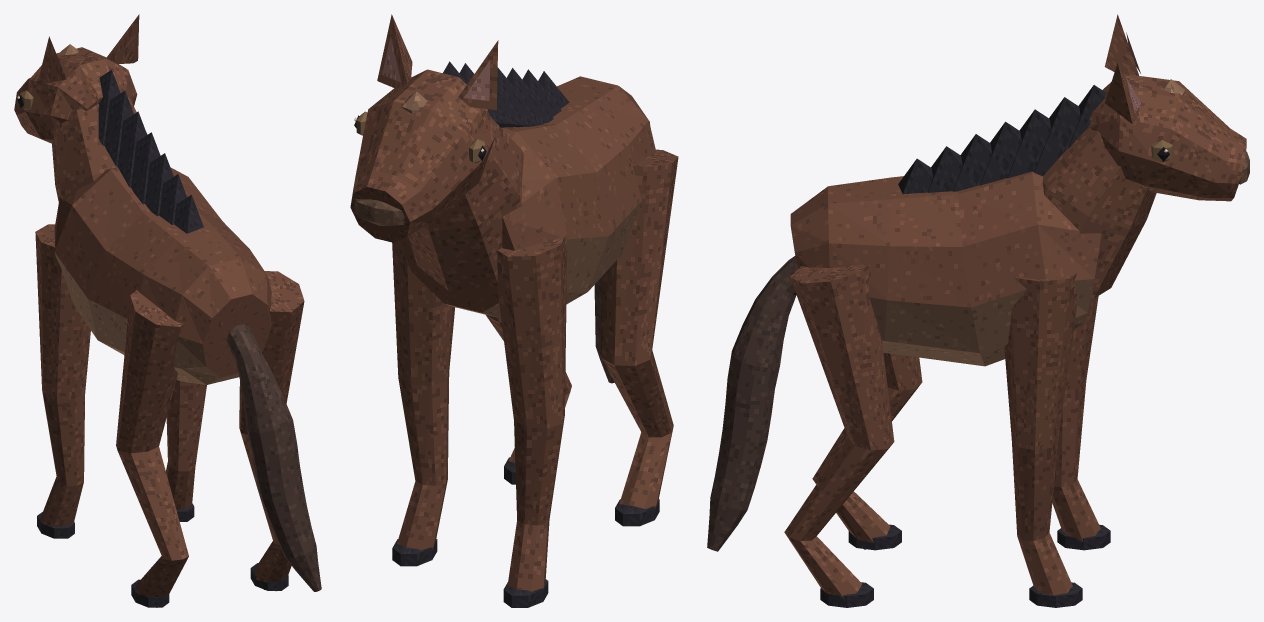
File: mon_horse_foal.glb
3 views of the same model, side by side, from view 1: azimuth 30°, elevation 25°; view 2: azimuth 150°, elevation 25°; view 3: azimuth 270°, elevation 25° (orthographic). The views are drawn at different scales.
Visible parts, largest first — view 1: closed_body; view 2: closed_body; view 3: closed_body.
Part boxes in pixels (box(x1,y1,x2,y2)): closed_body: box(14, 14, 321, 607); closed_body: box(350, 14, 678, 607); closed_body: box(707, 14, 1249, 607).
Size of the model in its own units: 0.6659 by 2.05 by 1.87.
Materials: 1 (1 with a texture image).
